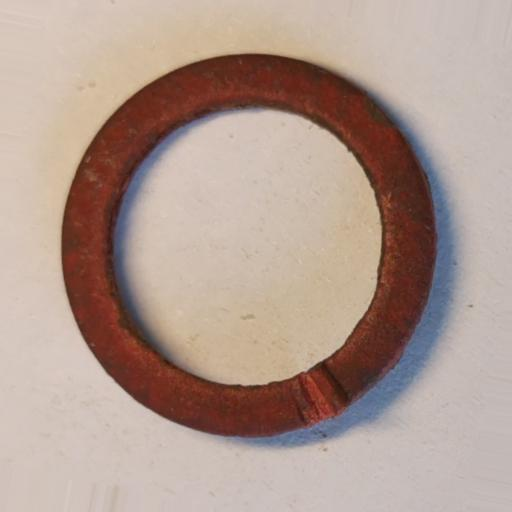defect: (291, 362, 352, 429)
